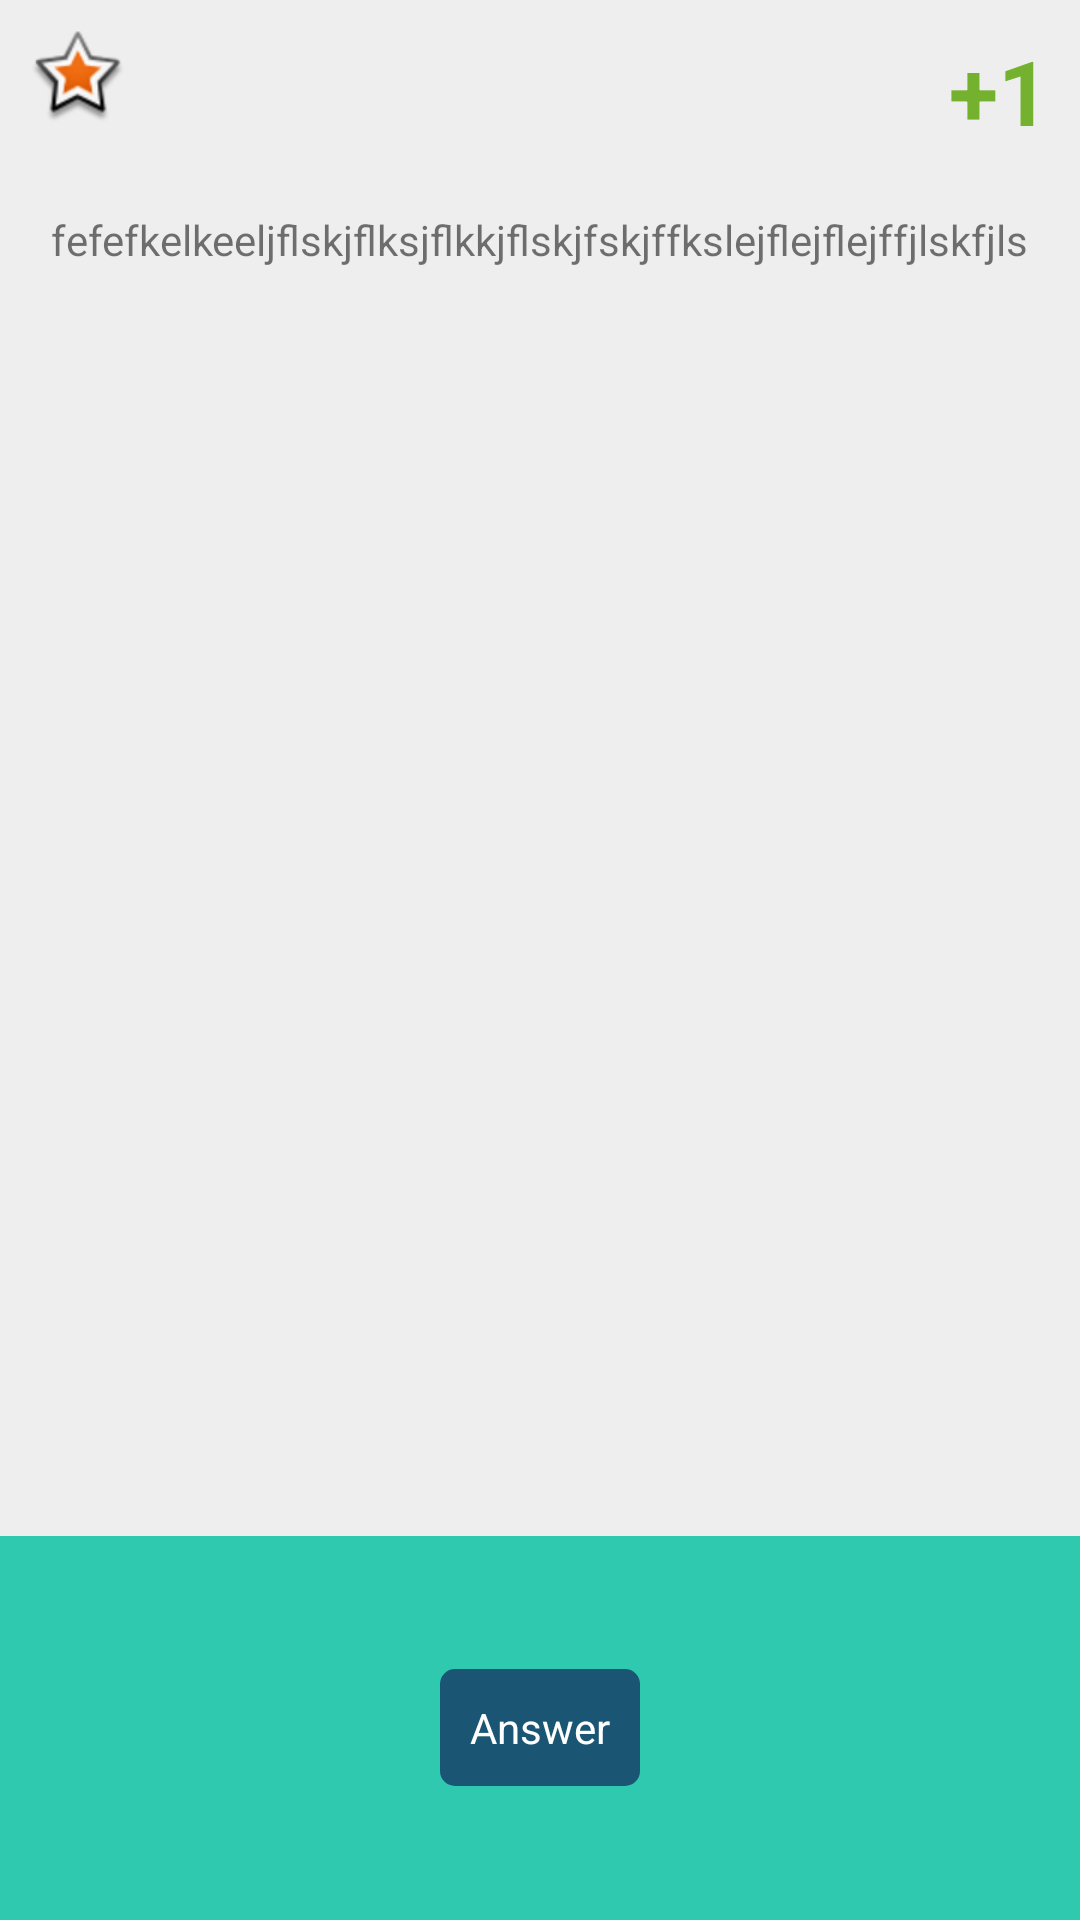

Screen size 1080×1920. Icon name, then its center in pixels as (x,y):
star on: (77,74)
